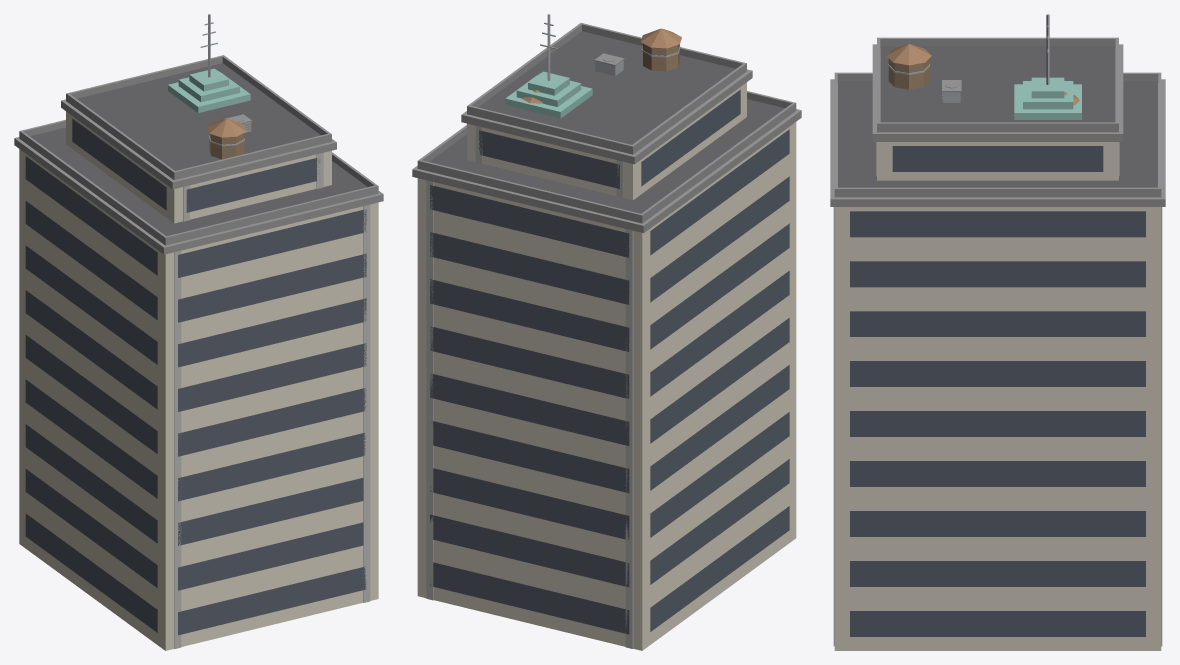
Rendered from bld_deco_03.glb.
3 renders of one model, left to right at view 1: azimuth 30°, elevation 25°; view 2: azimuth 150°, elevation 25°; view 3: azimuth 270°, elevation 25°, orthographic. The views are drawn at different scales.
Visible parts, largest first — view 1: bld_deco_03; view 2: bld_deco_03; view 3: bld_deco_03.
Part boxes in pixels (<box>): bld_deco_03: <box>14,14,383,650</box>; bld_deco_03: <box>412,14,801,650</box>; bld_deco_03: <box>830,14,1165,650</box>.
Size of the model in its own units: 16.5 by 38.24 by 19.5.
